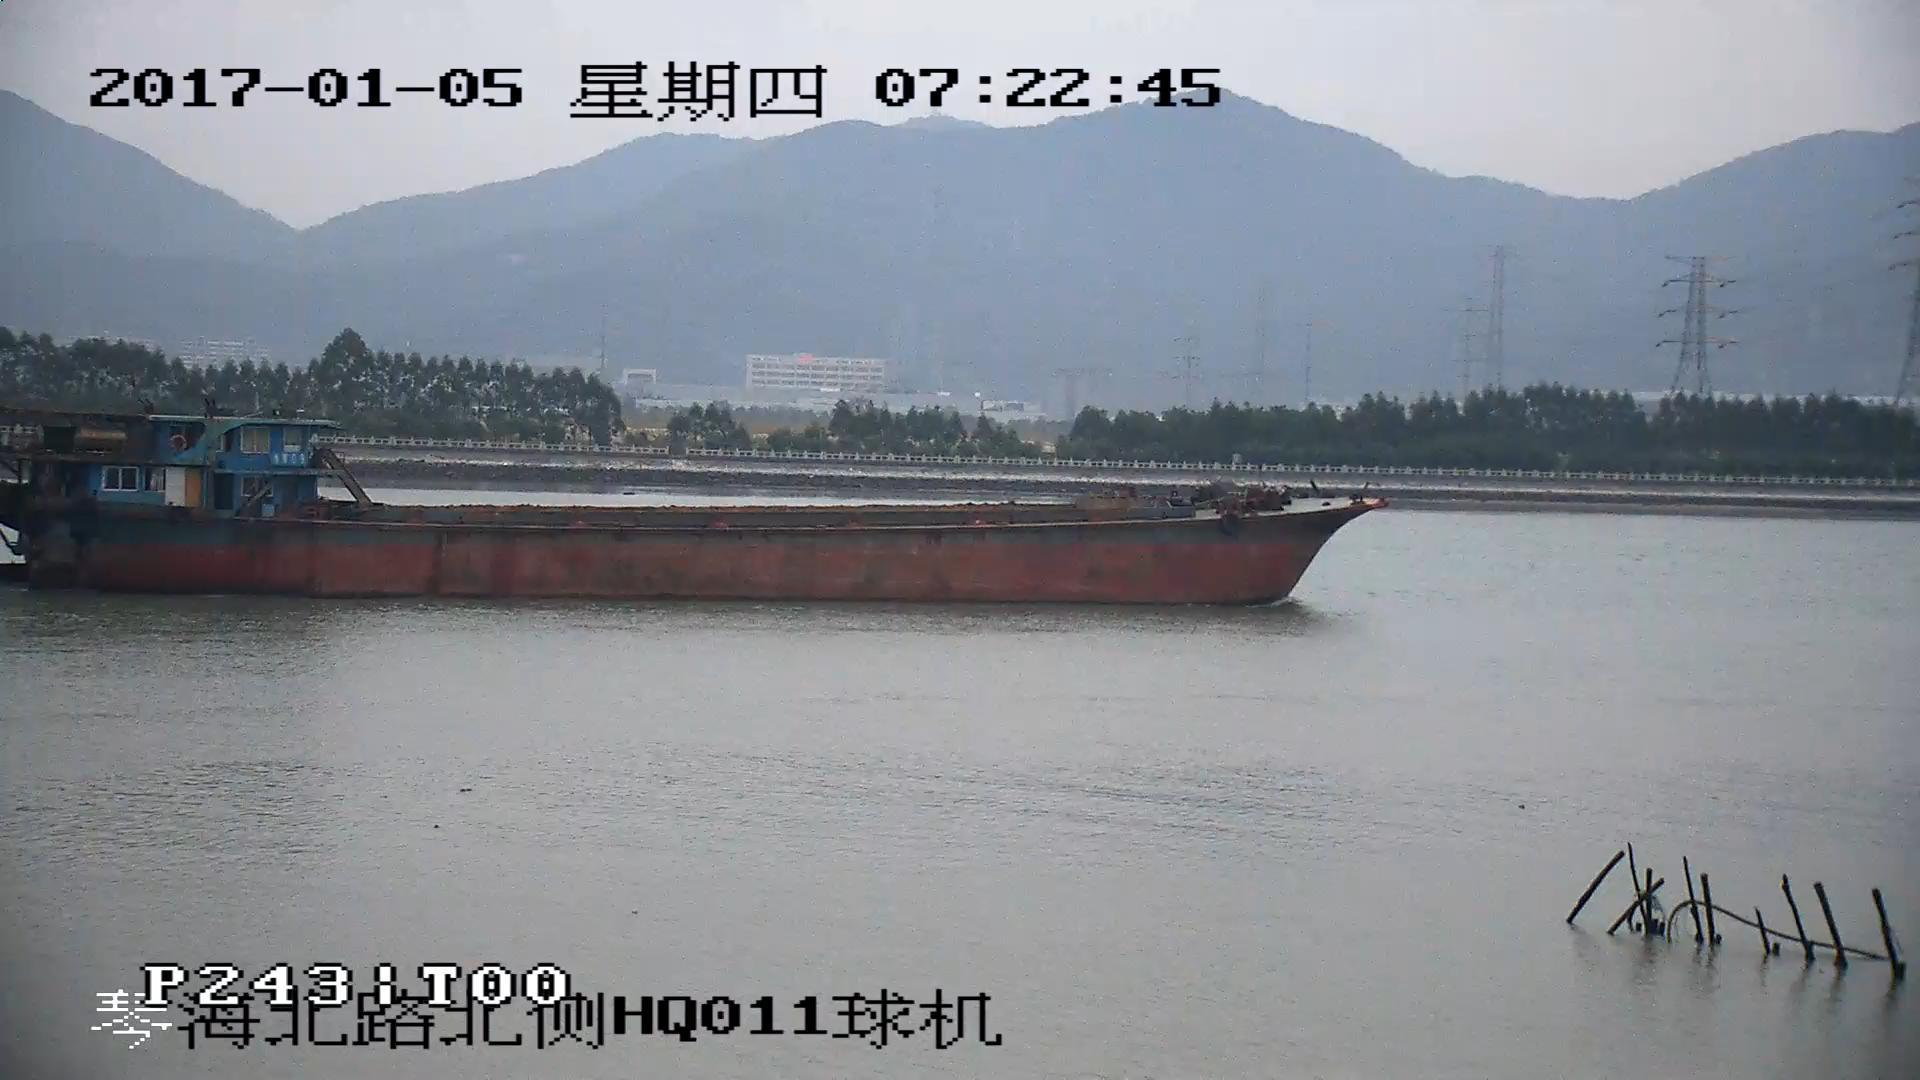Ship: (3, 415, 1386, 603)
